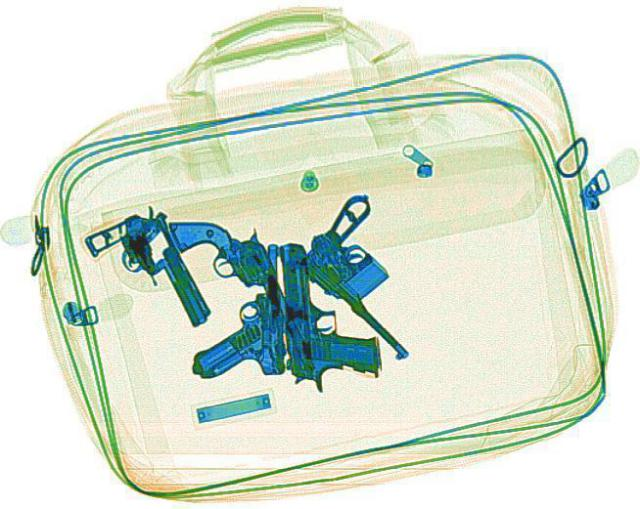Gun: (268, 191, 490, 360), (159, 203, 313, 382), (77, 203, 216, 342), (278, 238, 382, 391), (190, 240, 284, 377)
